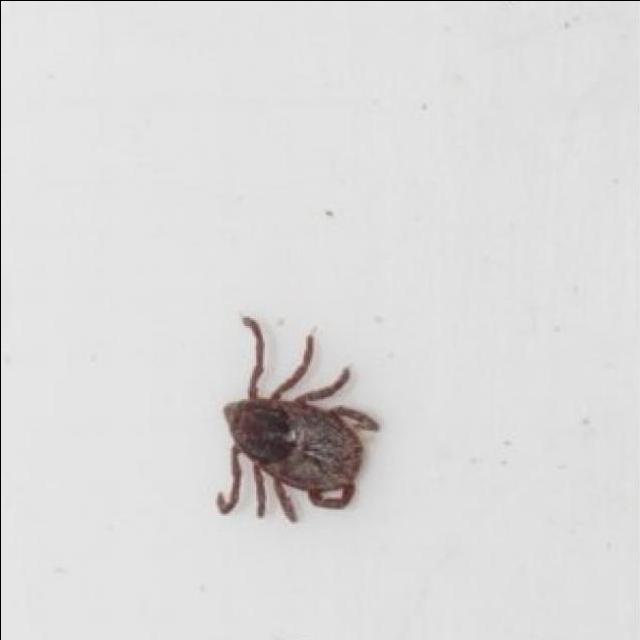Rhipicephalus Sanguineus-F: (215, 315, 381, 523)
